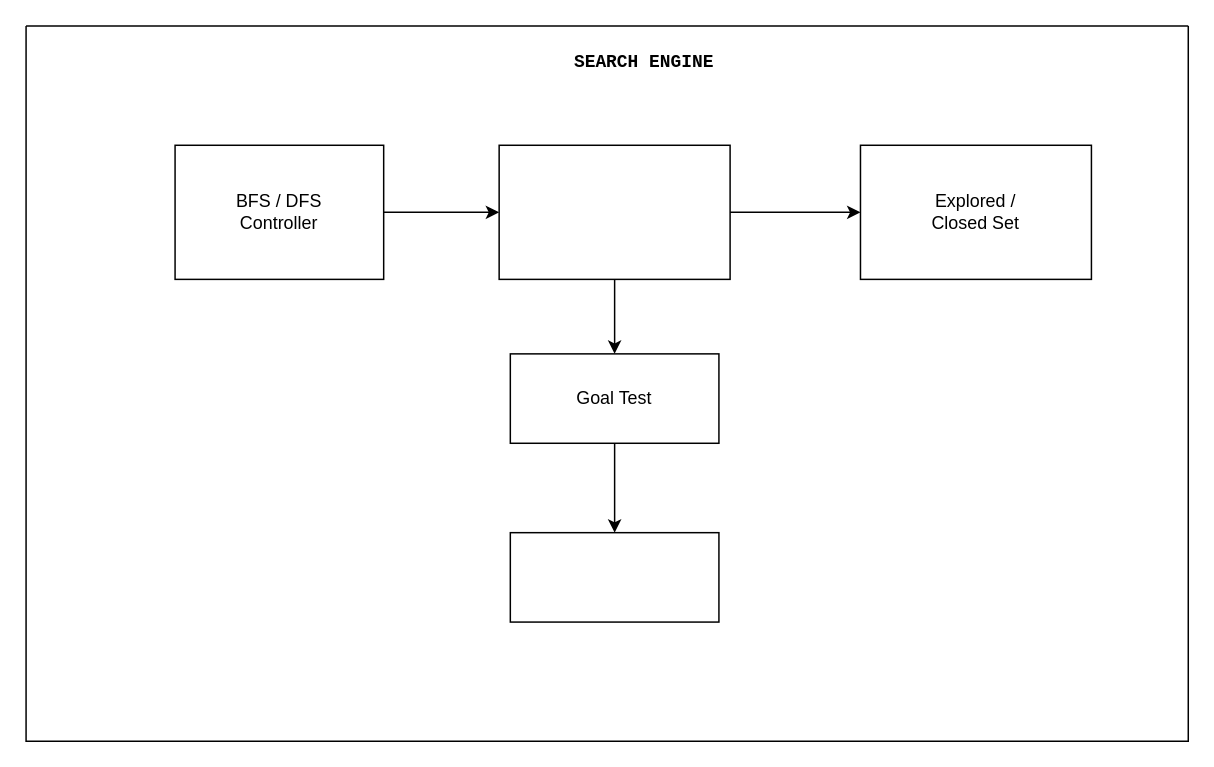
This 1214x767 diagram has some shape labels left out. The shapes that lost their labels are listed below. From the top down, each one's centre as x and y in pixels, then its label:
At [614,211]: "Frontier Queue / Stack".
At [614,576]: "Path Reconstructor".
